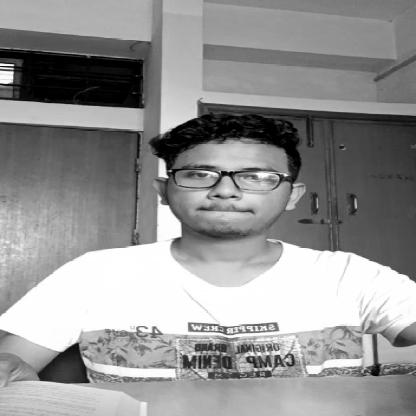Normal: (152, 116, 312, 240)
